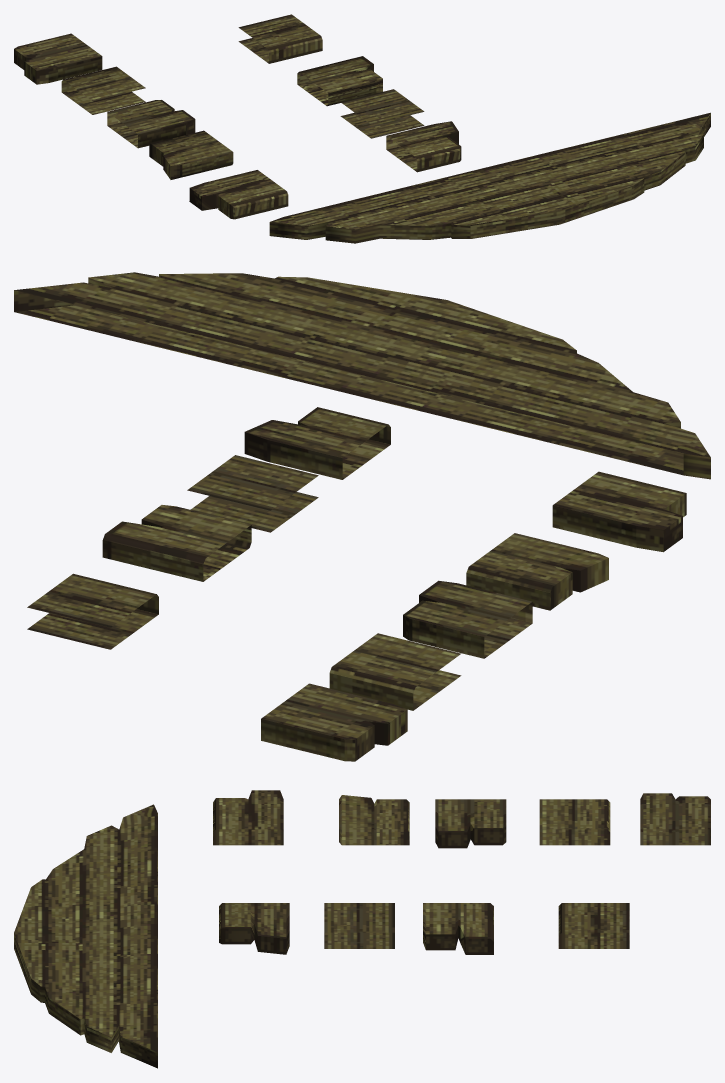
File: EnvMdrMD_Island_B_Scaffold_BK.FBX
The picture shows the model from 3 angles, top to bottom: view 1: azimuth 30°, elevation 25°; view 2: azimuth 150°, elevation 25°; view 3: azimuth 270°, elevation 25°; orthographic projection. The views are drawn at different scales.
Parts seen in each view (by area): view 1: EnvMdrMD_Island_B_Scaffold_Circle_A, EnvMdrMD_Island_B_Scaffold_RB, EnvMdrMD_Island_B_Scaffold_RS, EnvMdrMD_Island_B_Scaffold_LS, EnvMdrMD_Island_B_Scaffold_LF, EnvMdrMD_Island_B_Scaffold_RF, EnvMdrMD_Island_B_Scaffold_LB, EnvMdrMD_Island_B_Scaffold_BK, EnvMdrMD_Island_B_Scaffold_FR, EnvMdrMD_Island_B_Scaffold_Center; view 2: EnvMdrMD_Island_B_Scaffold_Circle_A, EnvMdrMD_Island_B_Scaffold_RS, EnvMdrMD_Island_B_Scaffold_LF, EnvMdrMD_Island_B_Scaffold_RB, EnvMdrMD_Island_B_Scaffold_LS, EnvMdrMD_Island_B_Scaffold_LB, EnvMdrMD_Island_B_Scaffold_RF, EnvMdrMD_Island_B_Scaffold_FR, EnvMdrMD_Island_B_Scaffold_BK, EnvMdrMD_Island_B_Scaffold_Center; view 3: EnvMdrMD_Island_B_Scaffold_Circle_A, EnvMdrMD_Island_B_Scaffold_RB, EnvMdrMD_Island_B_Scaffold_RS, EnvMdrMD_Island_B_Scaffold_LF, EnvMdrMD_Island_B_Scaffold_LS, EnvMdrMD_Island_B_Scaffold_RF, EnvMdrMD_Island_B_Scaffold_FR, EnvMdrMD_Island_B_Scaffold_BK, EnvMdrMD_Island_B_Scaffold_Center, EnvMdrMD_Island_B_Scaffold_LB.
Part boxes in pixels (box(x1,y1,x2,y2)): EnvMdrMD_Island_B_Scaffold_Circle_A: box(269, 112, 710, 243); EnvMdrMD_Island_B_Scaffold_RB: box(189, 170, 288, 219); EnvMdrMD_Island_B_Scaffold_RS: box(14, 33, 102, 84); EnvMdrMD_Island_B_Scaffold_LS: box(107, 100, 195, 148); EnvMdrMD_Island_B_Scaffold_LF: box(297, 56, 382, 106); EnvMdrMD_Island_B_Scaffold_RF: box(149, 130, 233, 179); EnvMdrMD_Island_B_Scaffold_LB: box(386, 121, 461, 172); EnvMdrMD_Island_B_Scaffold_BK: box(238, 14, 322, 63); EnvMdrMD_Island_B_Scaffold_FR: box(61, 66, 145, 114); EnvMdrMD_Island_B_Scaffold_Center: box(340, 89, 424, 138); EnvMdrMD_Island_B_Scaffold_Circle_A: box(14, 272, 710, 479); EnvMdrMD_Island_B_Scaffold_RS: box(261, 683, 407, 761); EnvMdrMD_Island_B_Scaffold_LF: box(102, 505, 251, 581); EnvMdrMD_Island_B_Scaffold_RB: box(552, 471, 686, 552); EnvMdrMD_Island_B_Scaffold_LS: box(403, 580, 532, 658); EnvMdrMD_Island_B_Scaffold_LB: box(244, 407, 390, 479); EnvMdrMD_Island_B_Scaffold_RF: box(466, 533, 608, 610); EnvMdrMD_Island_B_Scaffold_FR: box(329, 633, 461, 710); EnvMdrMD_Island_B_Scaffold_BK: box(27, 573, 158, 649); EnvMdrMD_Island_B_Scaffold_Center: box(187, 455, 318, 532); EnvMdrMD_Island_B_Scaffold_Circle_A: box(14, 804, 157, 1068); EnvMdrMD_Island_B_Scaffold_RB: box(213, 790, 283, 845); EnvMdrMD_Island_B_Scaffold_RS: box(640, 793, 710, 845); EnvMdrMD_Island_B_Scaffold_LF: box(423, 903, 493, 954); EnvMdrMD_Island_B_Scaffold_LS: box(435, 799, 506, 848); EnvMdrMD_Island_B_Scaffold_RF: box(339, 795, 409, 845); EnvMdrMD_Island_B_Scaffold_FR: box(539, 799, 610, 845); EnvMdrMD_Island_B_Scaffold_BK: box(558, 903, 629, 948); EnvMdrMD_Island_B_Scaffold_Center: box(324, 903, 394, 948); EnvMdrMD_Island_B_Scaffold_LB: box(219, 903, 289, 954).
Size of the model in its own units: 876 by 25 by 984.
Materials: 1 (1 with a texture image).
